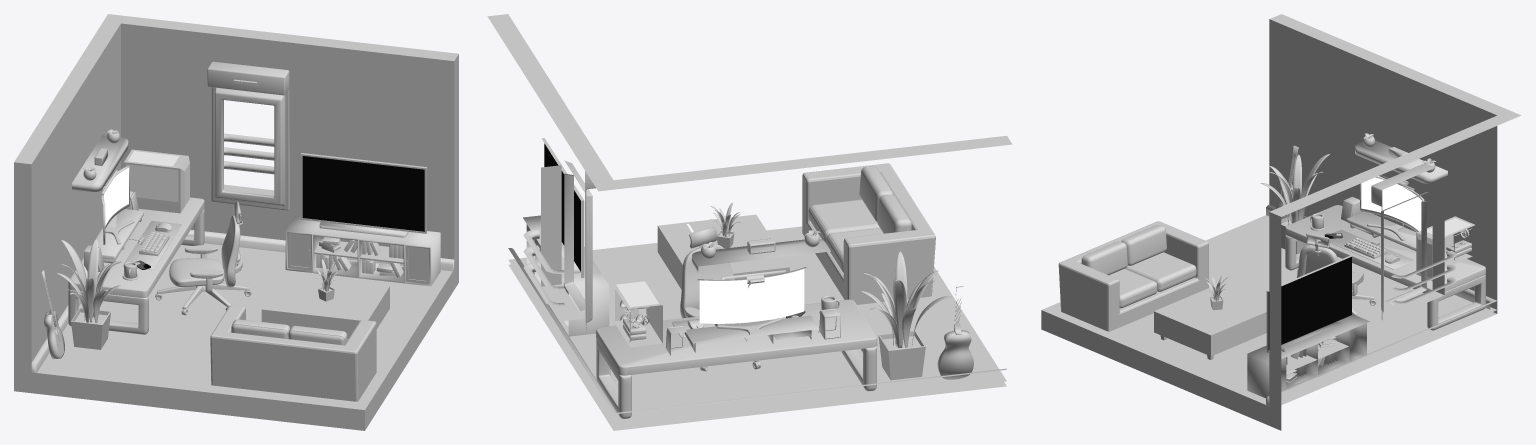
The model's file is room-v3.glb.
3 views of the same model, side by side, from view 1: azimuth 30°, elevation 25°; view 2: azimuth 150°, elevation 25°; view 3: azimuth 270°, elevation 25° (orthographic). The views are drawn at different scales.
Parts seen in each view (by area): view 1: MergedRoom, tvScreen, Chair, caseCover, monitorScreen; view 2: MergedRoom, monitorScreen, Chair, caseCover, tvScreen; view 3: MergedRoom, tvScreen, monitorScreen, Chair, caseCover.
Boxes of the visible parts, x1,y1,x2,y2 form: MergedRoom: (14, 14, 458, 430); tvScreen: (302, 156, 424, 231); Chair: (169, 201, 242, 291); caseCover: (126, 151, 189, 206); monitorScreen: (104, 167, 128, 225); MergedRoom: (487, 14, 1012, 430); monitorScreen: (699, 269, 804, 323); Chair: (680, 226, 734, 318); caseCover: (615, 281, 662, 343); tvScreen: (544, 143, 580, 271); MergedRoom: (1041, 14, 1521, 430); tvScreen: (1268, 256, 1351, 349); monitorScreen: (1361, 177, 1421, 231); Chair: (1296, 233, 1363, 295); caseCover: (1418, 218, 1471, 277).
Size of the model in its own units: 24.9 by 12.24 by 24.9.
Materials: 5 (1 with a texture image).
